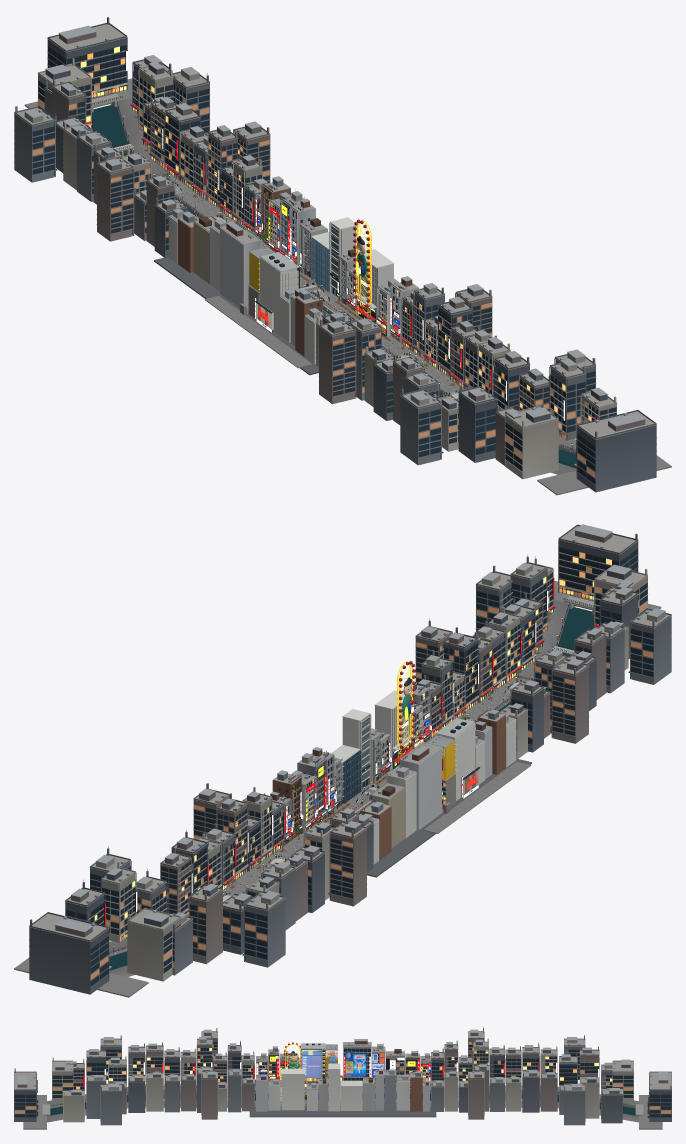
File: dotonbori.glb
The picture shows the model from 3 angles, top to bottom: view 1: azimuth 30°, elevation 25°; view 2: azimuth 150°, elevation 25°; view 3: azimuth 270°, elevation 25°; orthographic projection. The views are drawn at different scales.
Parts seen in each view (by area): view 1: Dotonbori shop glass, Dotonbori background architecture.005, Dotonbori background architecture.007, Dotonbori background architecture.008, Dotonbori background architecture.001, Dotonbori background architecture, Dotonbori background architecture.002, Dotonbori cool concrete, Dotonbori background architecture.003, Dotonbori pearl ceramic, Dotonbori distant paving, Dotonbori interior amber 2 (+16 smaller); view 2: Dotonbori shop glass, Dotonbori background architecture.007, Dotonbori background architecture.005, Dotonbori background architecture.008, Dotonbori background architecture.001, Dotonbori background architecture, Dotonbori background architecture.002, Dotonbori background architecture.003, Dotonbori cool concrete, Dotonbori pearl ceramic, Dotonbori retail porcelain, Dotonbori distant paving (+17 smaller); view 3: Dotonbori background architecture.008, Dotonbori shop glass, Dotonbori background architecture.001, Dotonbori background architecture.007, Dotonbori background architecture, Dotonbori background architecture.005, Dotonbori retail porcelain, Dotonbori background architecture.002, Dotonbori paving joints, Dotonbori cool concrete, Dotonbori limestone, Dotonbori distant paving (+19 smaller).
Part boxes in pixels (x1,y1,x2,y2): Dotonbori shop glass: (32, 45, 616, 483); Dotonbori background architecture.005: (45, 17, 656, 492); Dotonbori background architecture.007: (52, 32, 645, 465); Dotonbori background architecture.008: (14, 71, 596, 465); Dotonbori background architecture.001: (14, 24, 656, 459); Dotonbori background architecture: (24, 58, 616, 479); Dotonbori background architecture.002: (24, 25, 645, 426); Dotonbori cool concrete: (173, 194, 419, 345); Dotonbori background architecture.003: (56, 46, 598, 471); Dotonbori pearl ceramic: (168, 199, 390, 364); Dotonbori distant paving: (24, 78, 671, 495); Dotonbori interior amber 2: (32, 64, 595, 477); Dotonbori shop glass: (65, 547, 653, 986); Dotonbori background architecture.007: (55, 531, 632, 964); Dotonbori background architecture.005: (29, 524, 638, 994); Dotonbori background architecture.008: (90, 556, 671, 975); Dotonbori background architecture.001: (29, 526, 671, 942); Dotonbori background architecture: (96, 558, 665, 981); Dotonbori background architecture.002: (55, 524, 665, 932); Dotonbori background architecture.003: (87, 547, 629, 955); Dotonbori cool concrete: (283, 687, 508, 845); Dotonbori pearl ceramic: (301, 704, 516, 864); Dotonbori retail porcelain: (331, 690, 415, 798); Dotonbori distant paving: (14, 581, 661, 997); Dotonbori background architecture.008: (66, 1033, 613, 1125); Dotonbori shop glass: (14, 1042, 671, 1117); Dotonbori background architecture.001: (14, 1032, 671, 1096); Dotonbori background architecture.007: (17, 1028, 668, 1119); Dotonbori background architecture: (52, 1038, 633, 1122); Dotonbori background architecture.005: (14, 1041, 671, 1123); Dotonbori retail porcelain: (281, 1063, 362, 1111); Dotonbori background architecture.002: (17, 1029, 668, 1092); Dotonbori paving joints: (249, 1079, 436, 1117); Dotonbori cool concrete: (256, 1046, 429, 1111); Dotonbori limestone: (42, 1042, 643, 1116); Dotonbori distant paving: (23, 1086, 662, 1129).
Bounding box in the file's own units: 106 × 56.75 × 528.
111 materials, 13 textured.
